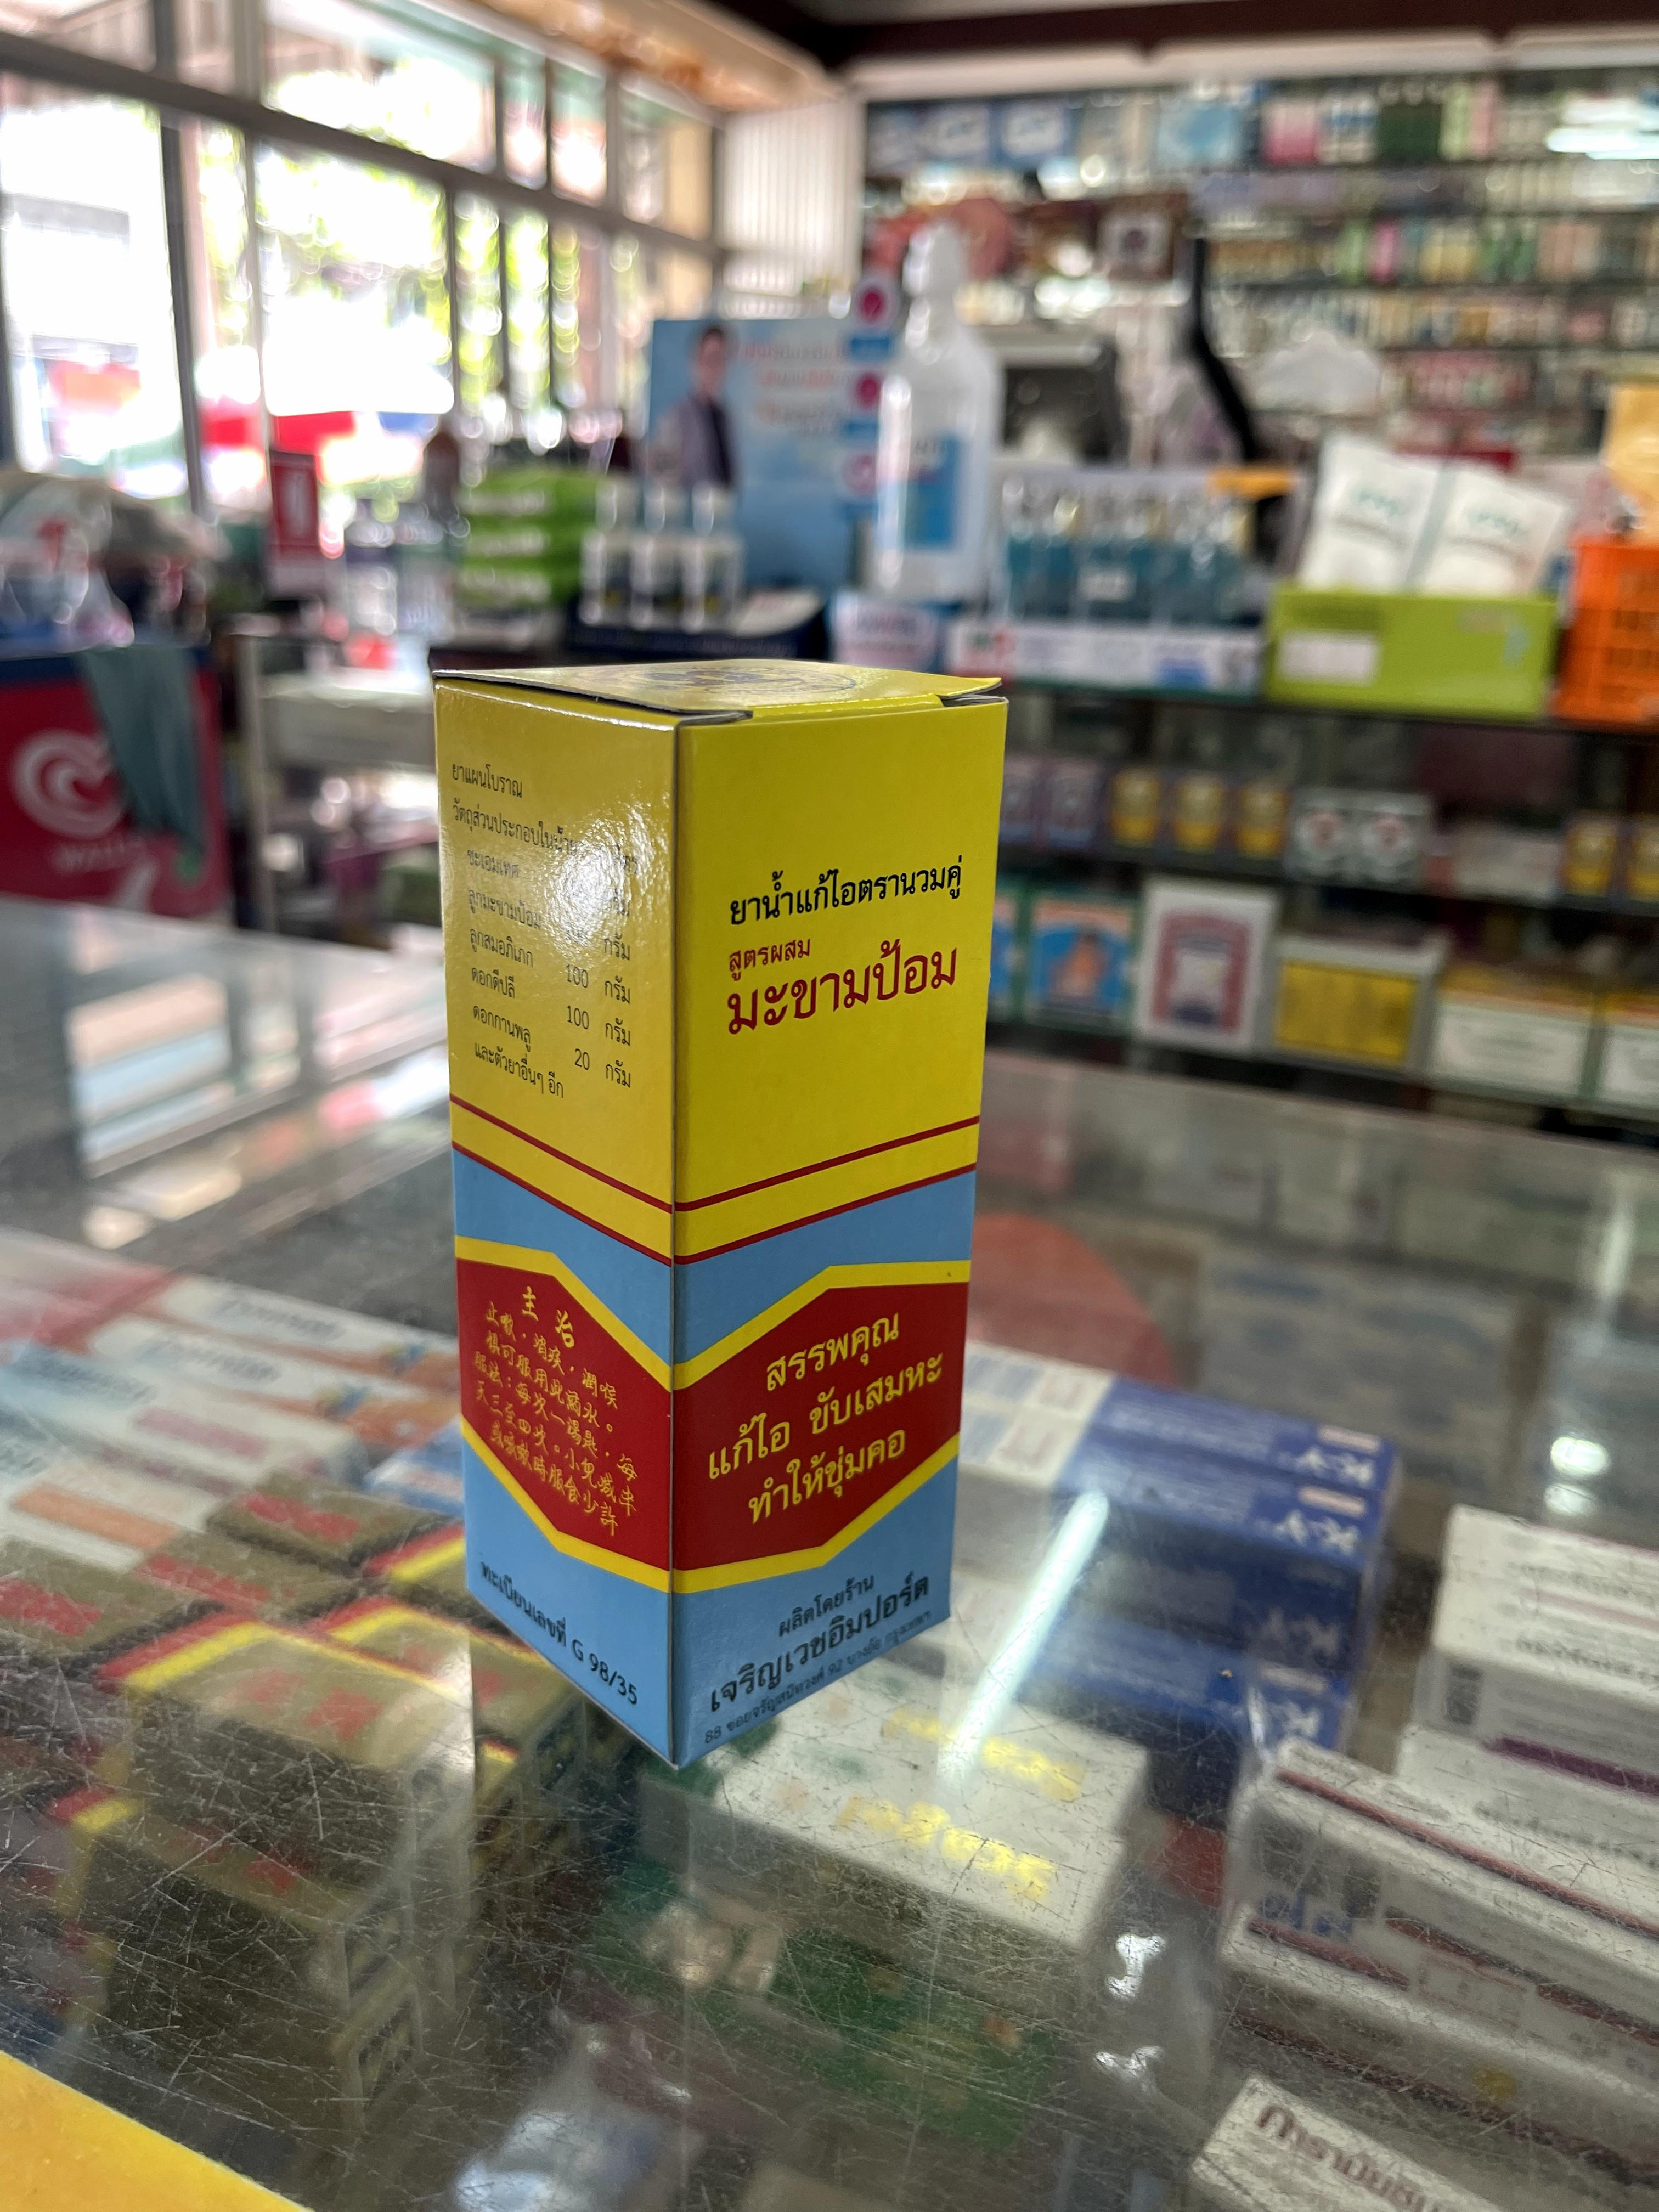Ma-Kham-Pom: (434, 658, 1002, 1766)
